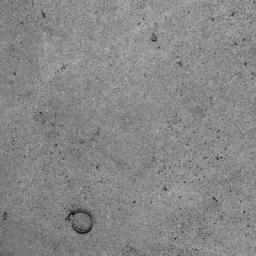FOD: (66, 207, 98, 237)
